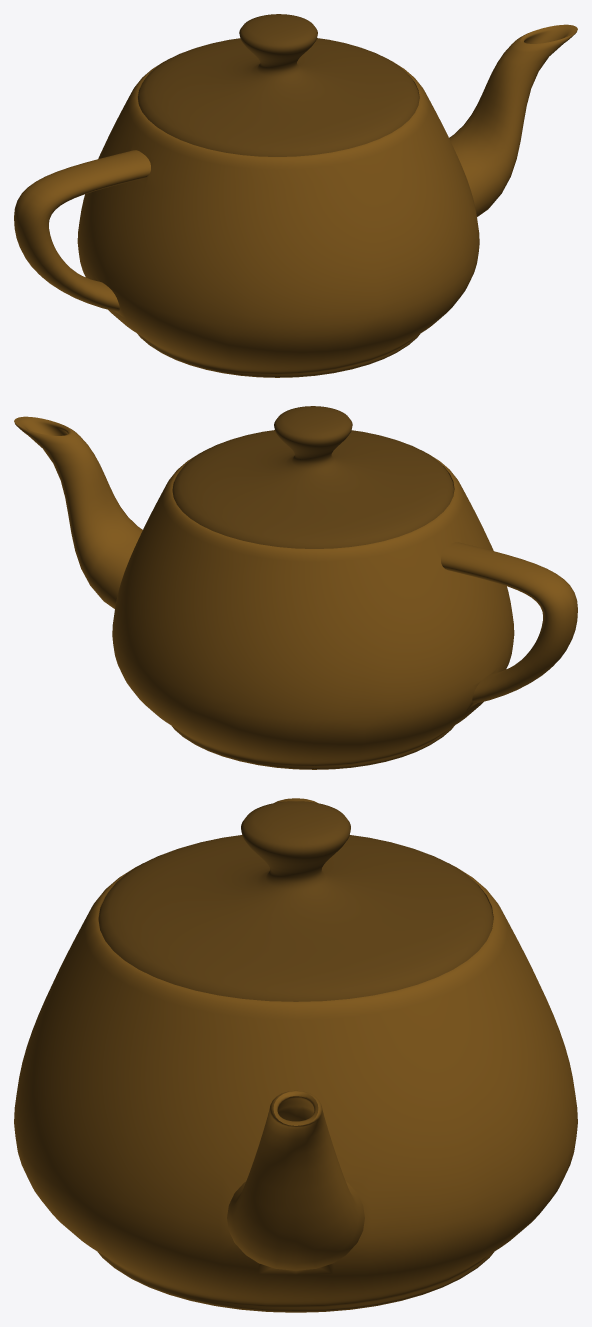
File: teapot.glb
3 views of the same model, one above another, from view 1: azimuth 30°, elevation 25°; view 2: azimuth 150°, elevation 25°; view 3: azimuth 270°, elevation 25° (orthographic). The views are drawn at different scales.
Parts seen in each view (by area): view 1: Object_3.001, Object_2.001; view 2: Object_3.001, Object_2.001; view 3: Object_3.001, Object_2.001.
Boxes of the visible parts, <box> form: Object_3.001: <box>14,24,577,377</box>; Object_2.001: <box>138,14,419,156</box>; Object_3.001: <box>14,416,577,769</box>; Object_2.001: <box>172,406,453,548</box>; Object_3.001: <box>14,798,577,1312</box>; Object_2.001: <box>98,801,493,1001</box>.
Size of the model in its own units: 4.51 by 2.31 by 2.8.
